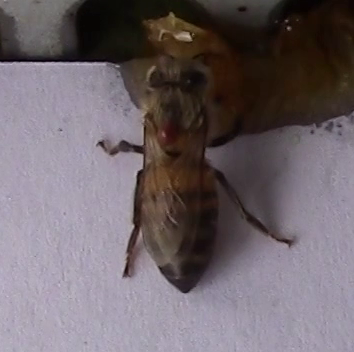Varroa destructor: (157, 122, 185, 147)
